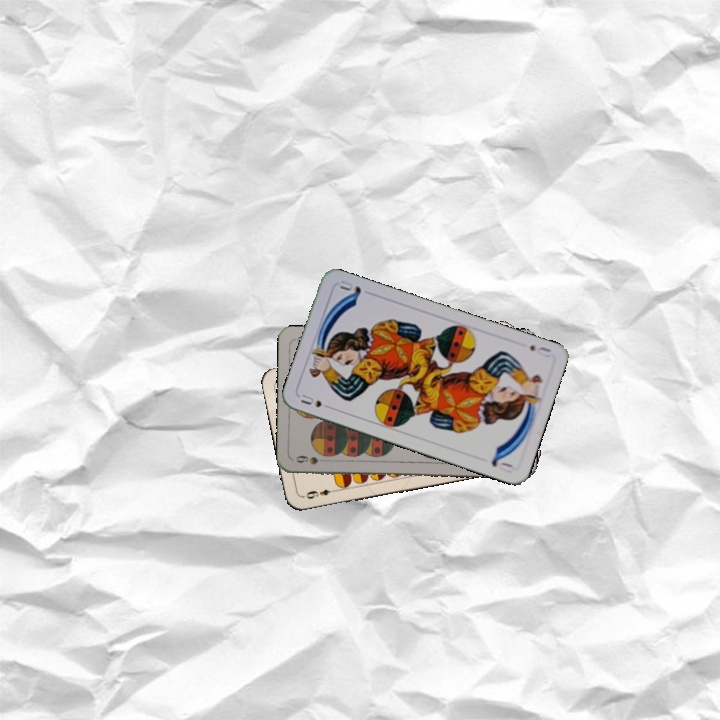E9: (302, 485, 339, 502)
S9: (292, 452, 332, 467)
SU: (297, 390, 335, 412), (526, 341, 554, 360)
